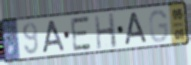9: (22, 22, 40, 56)
A: (124, 11, 149, 47), (42, 19, 67, 55)
E: (69, 14, 93, 53)
G: (148, 8, 170, 44)
H: (93, 11, 119, 51)
